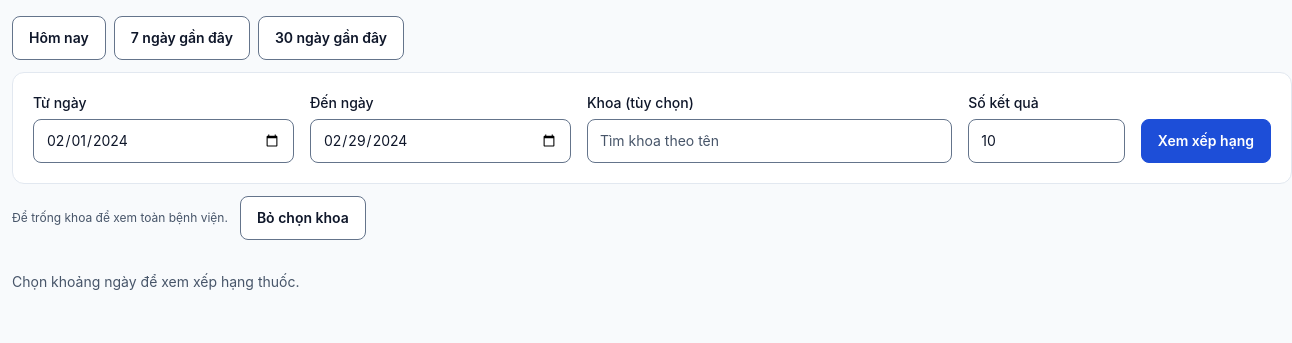
Test: TopMedicinesView › rejects invalid rank limit 1.5
The width and height of the screenshot is (1292, 343).
Replace the text in the number field labelled "Số kết quả" with "1.5" at coordinates (1046, 141), box [968,119,1125,163]
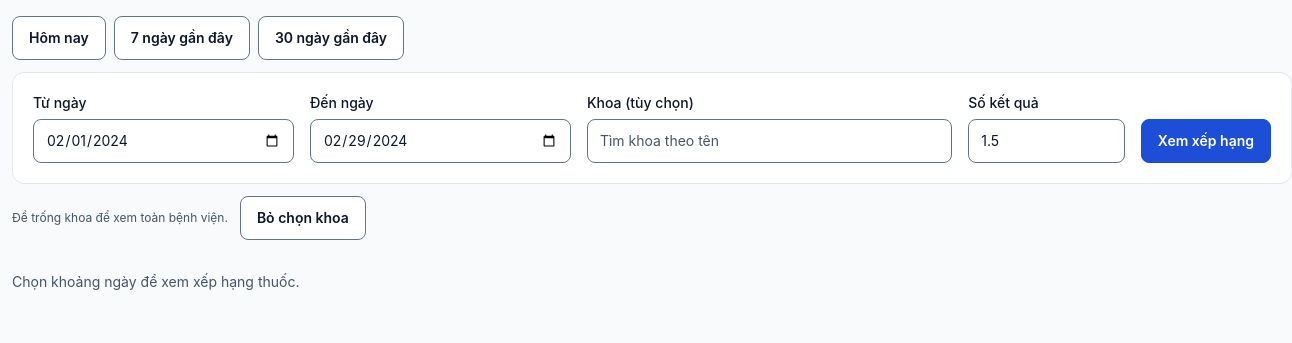
Submit the form labelled "Từ ngày", box [12,72,1291,184]
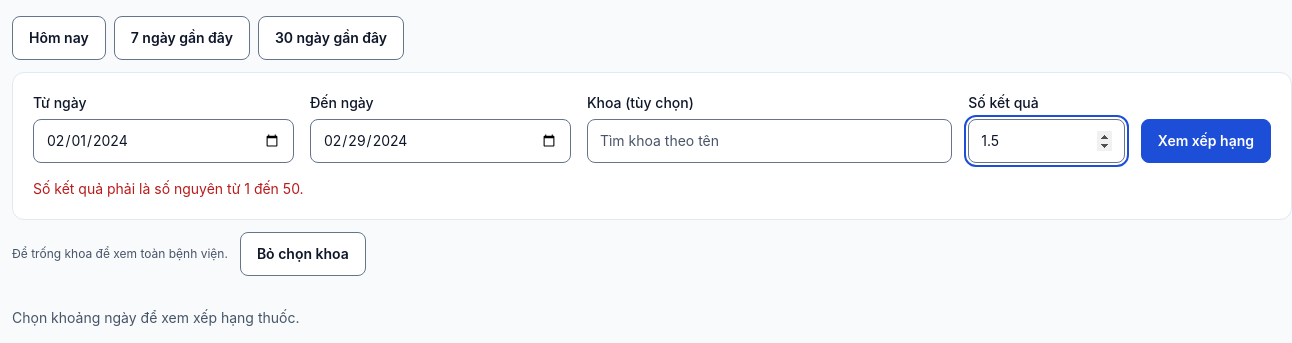
Result: the message "Số kết quả phải là số nguyên từ 1 đến 50." is shown at [33,180,304,197]
